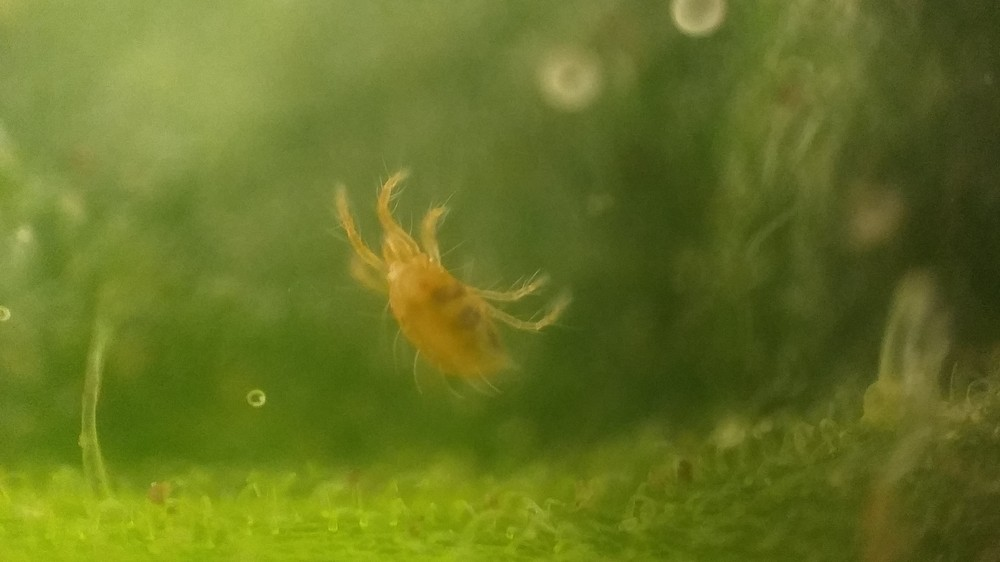Aracnido Rojo: (303, 169, 597, 419)
